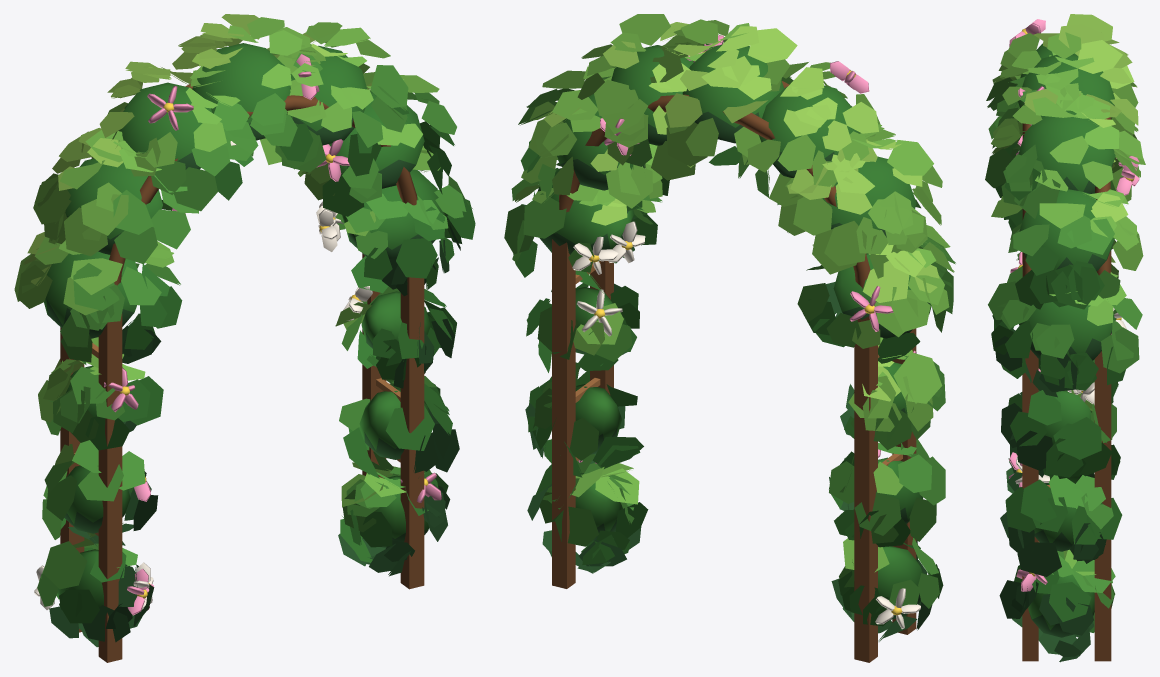
File: GardenArch.glb
3 views of the same model, side by side, from view 1: azimuth 30°, elevation 25°; view 2: azimuth 150°, elevation 25°; view 3: azimuth 270°, elevation 25° (orthographic). The views are drawn at different scales.
Parts seen in each view (by area): view 1: Rustle, Body; view 2: Rustle, Body; view 3: Rustle, Body.
Boxes of the visible parts, x1,y1,x2,y2 form: Rustle: (14, 14, 475, 647); Body: (34, 43, 444, 662); Rustle: (504, 14, 955, 641); Body: (537, 35, 931, 662); Rustle: (985, 14, 1145, 662); Body: (1008, 19, 1139, 661).
Size of the model in its own units: 4.63 by 5.9 by 1.56.
Materials: 2 (2 with a texture image).
